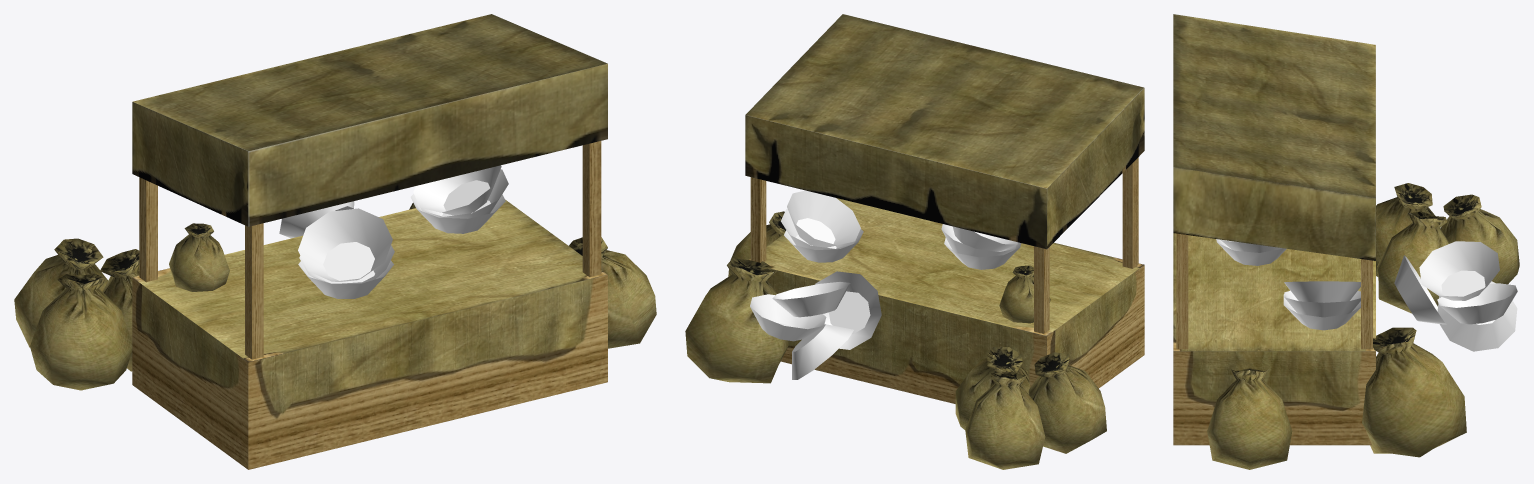
Rendered from store13.fbx.
3 renders of one model, left to right at view 1: azimuth 30°, elevation 25°; view 2: azimuth 150°, elevation 25°; view 3: azimuth 270°, elevation 25°, orthographic. The views are drawn at different scales.
Visible parts, largest first — view 1: stand_2, bag_53, bowl_18, bag_55, bag_51, bag_56, bowl_17, bag_54, bowl_19, bowl_15, bowl_13, bowl_20; view 2: stand_2, bag_52, bag_51, bag_53, bowl_17, bowl_13, bag_54, bowl_12, bowl_11, bowl_14, bag_56, bowl_18 (+5 smaller); view 3: stand_2, bag_52, bag_55, bowl_11, bag_51, bag_54, bag_53, bowl_14, bowl_12, bowl_13, bowl_17, bowl_20 (+3 smaller).
Boxes of the visible parts, x1,y1,x2,y2 form: stand_2: (132, 14, 607, 469); bag_53: (30, 274, 132, 390); bowl_18: (298, 208, 392, 281); bag_55: (569, 237, 656, 348); bag_51: (14, 238, 108, 347); bag_56: (169, 223, 229, 291); bowl_17: (413, 165, 501, 215); bag_54: (100, 249, 139, 371); bowl_19: (410, 194, 505, 233); bowl_15: (298, 260, 393, 298); bowl_13: (279, 201, 354, 238); bowl_20: (421, 169, 508, 218); stand_2: (745, 14, 1144, 403); bag_52: (685, 258, 789, 383); bag_51: (965, 371, 1045, 469); bag_53: (1028, 352, 1106, 453); bowl_17: (787, 190, 860, 247); bowl_13: (815, 271, 881, 349); bag_54: (955, 347, 1030, 429); bowl_12: (750, 294, 826, 341); bowl_11: (772, 282, 850, 317); bowl_14: (792, 324, 853, 379); bag_56: (999, 265, 1050, 323); bowl_18: (952, 226, 1017, 251); stand_2: (1173, 14, 1375, 445); bag_52: (1362, 327, 1466, 457); bag_55: (1207, 368, 1292, 469); bowl_11: (1419, 241, 1499, 300); bag_51: (1440, 194, 1519, 284); bag_54: (1377, 211, 1449, 313); bag_53: (1376, 183, 1435, 276); bowl_14: (1437, 281, 1517, 351); bowl_12: (1437, 283, 1517, 324); bowl_13: (1394, 255, 1446, 324); bowl_17: (1284, 281, 1360, 302); bowl_20: (1284, 291, 1360, 317).
Size of the model in its own units: 96.34 by 58.25 by 63.14.
